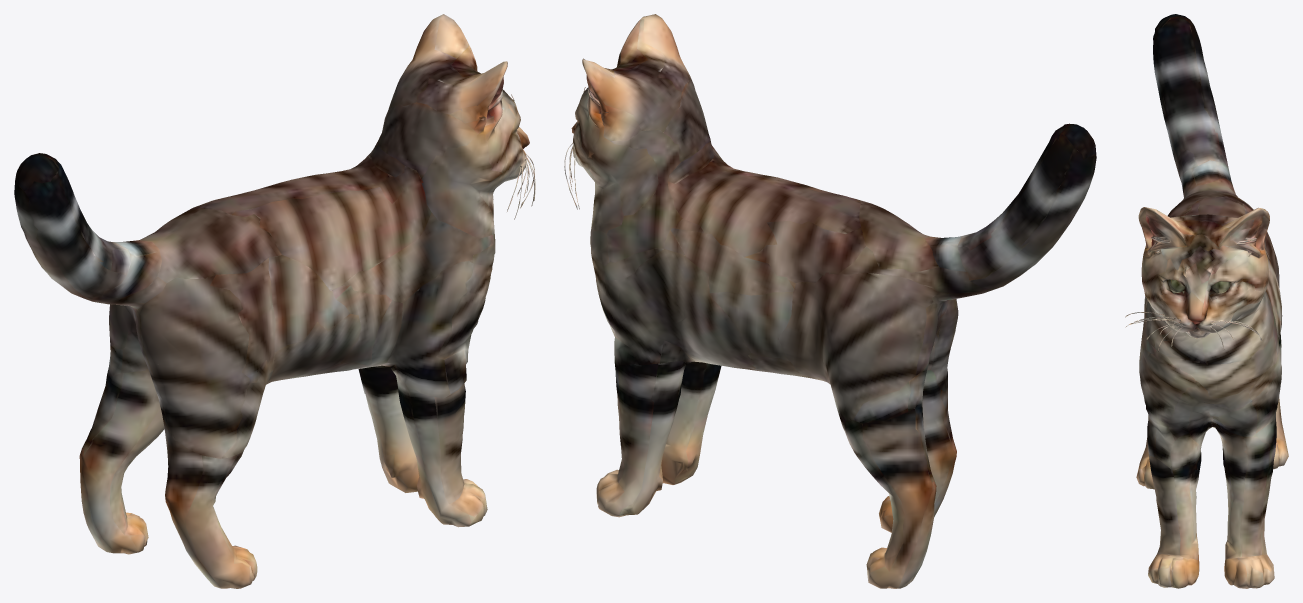
File: WILLOWCAT-lo.glb
The picture shows the model from 3 angles, left to right: view 1: azimuth 30°, elevation 25°; view 2: azimuth 150°, elevation 25°; view 3: azimuth 270°, elevation 25°; orthographic projection. The views are drawn at different scales.
Parts seen in each view (by area): view 1: fit; view 2: fit; view 3: fit.
Part boxes in pixels (x1,y1,x2,y2): fit: [14, 14, 535, 588]; fit: [564, 14, 1096, 588]; fit: [1125, 14, 1288, 588].
Bounding box in the file's own units: 1.18 × 0.9997 × 0.377.
Materials: 1 (1 with a texture image).
